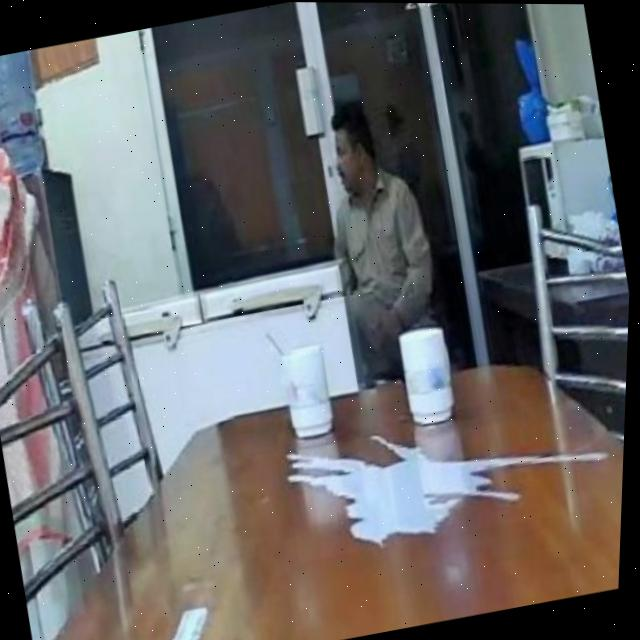spillage: (290, 436, 613, 547)
